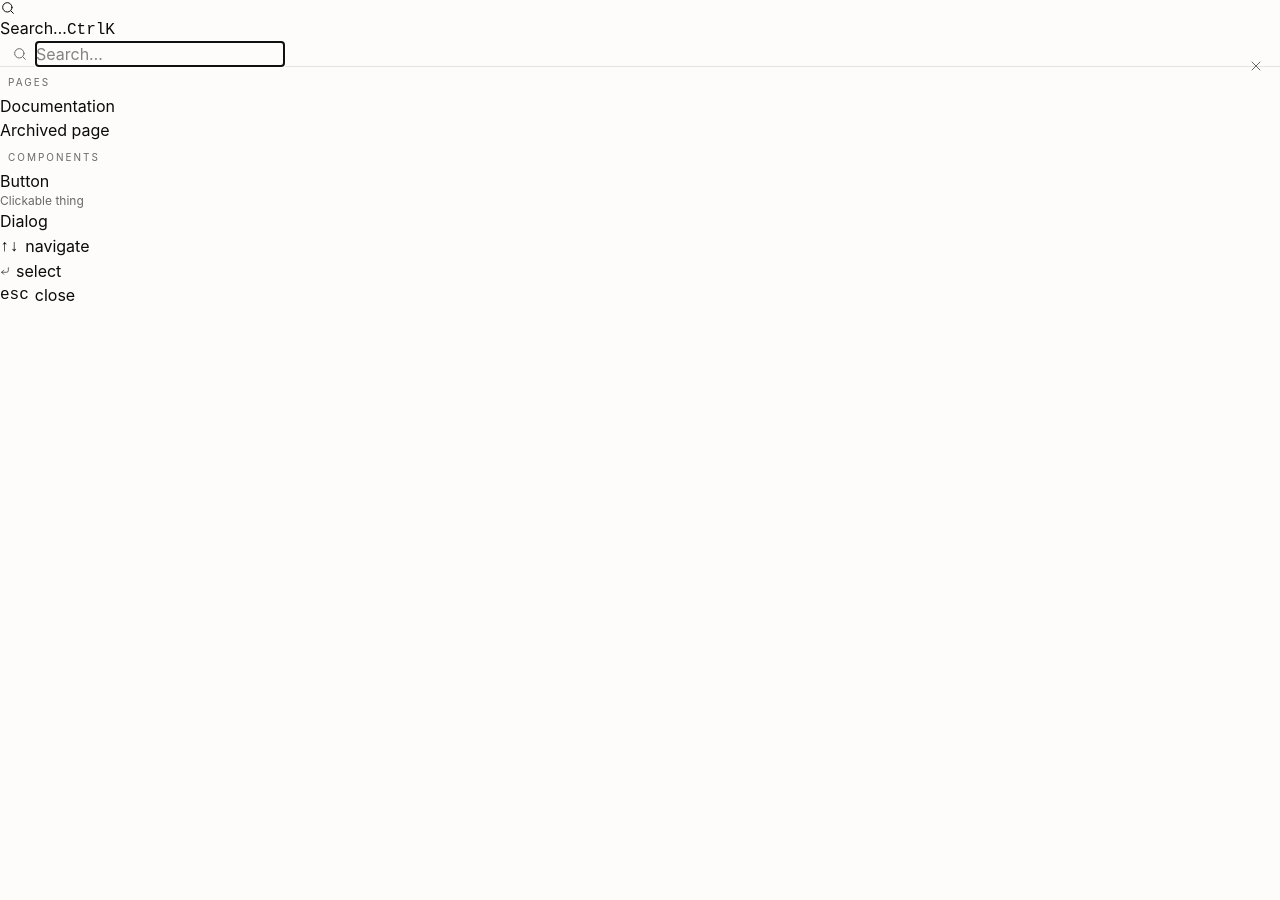
Scenario: SearchCommand › announces the empty state outside the listbox
The width and height of the screenshot is (1280, 900).
Type "zzz" into the dropdown at (160, 54), box [36,42,284,66]
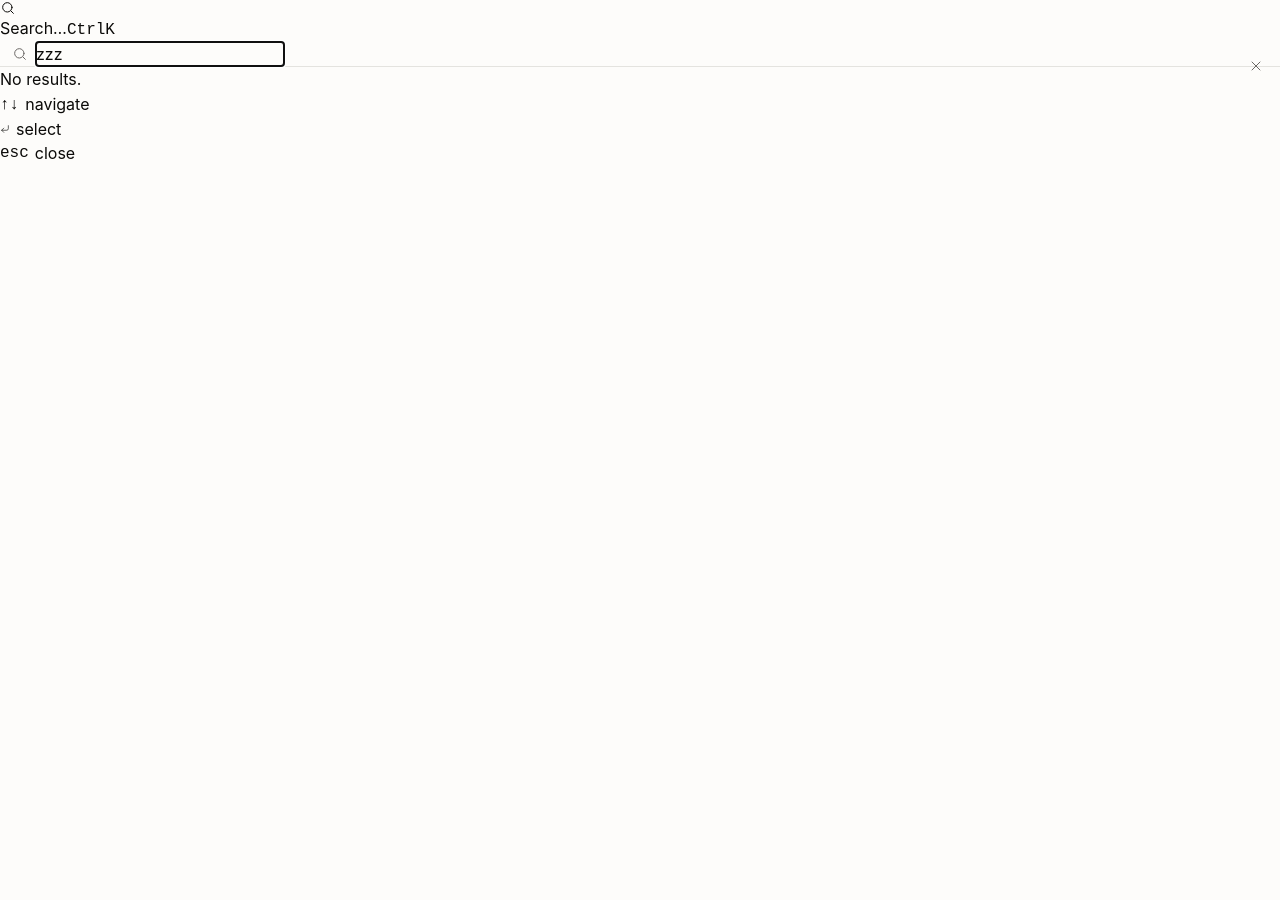
Check: the message reads "No results.", box [0,69,81,89]
